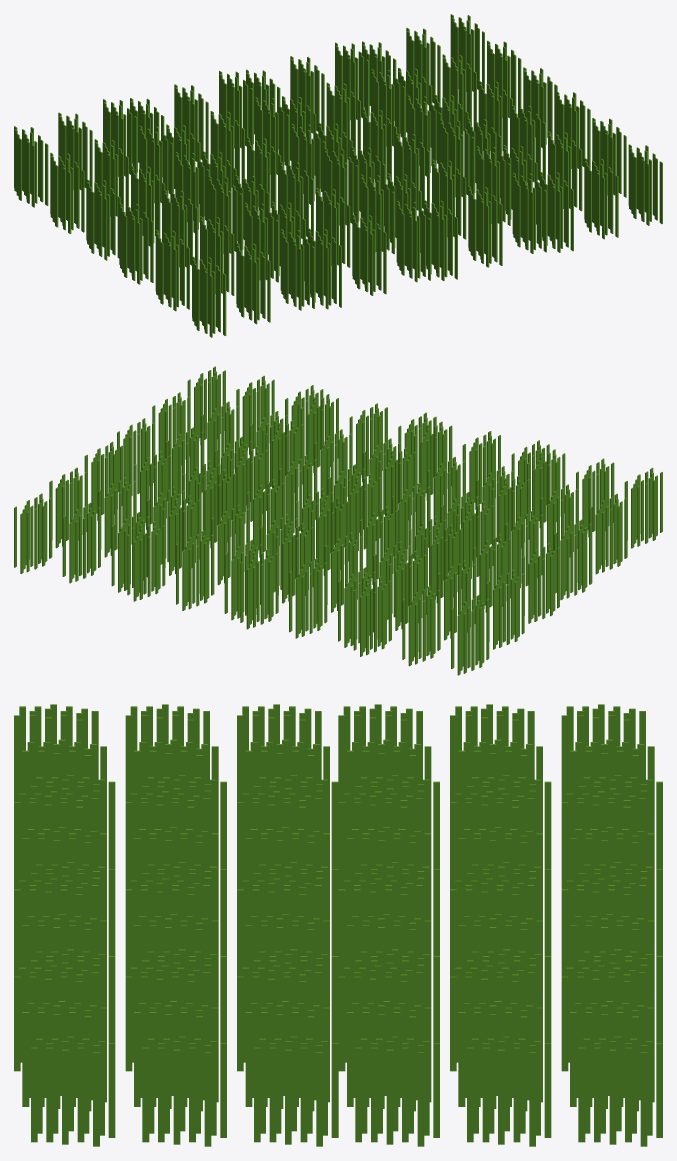
File: SuperGrass.fbx
The picture shows the model from 3 angles, top to bottom: view 1: azimuth 30°, elevation 25°; view 2: azimuth 150°, elevation 25°; view 3: azimuth 270°, elevation 25°; orthographic projection. The views are drawn at different scales.
Parts seen in each view (by area): view 1: Cube; view 2: Cube; view 3: Cube.
Part boxes in pixels (x1,y1,x2,y2): Cube: [14, 14, 662, 337]; Cube: [14, 366, 662, 675]; Cube: [14, 704, 662, 1146].
Bounding box in the file's own units: 1590 × 200 × 1252.
